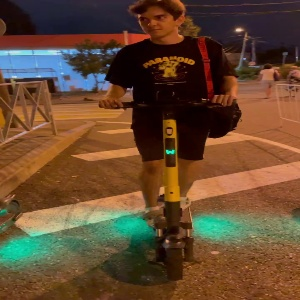human on a scooter: (97, 1, 244, 283)
